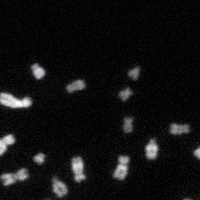chromosome: (0, 92, 32, 108), (1, 167, 29, 184), (72, 157, 86, 183), (114, 155, 129, 179), (0, 133, 15, 156), (52, 176, 68, 197), (145, 138, 158, 160), (66, 79, 85, 93), (31, 63, 44, 80), (170, 122, 190, 133), (119, 87, 132, 101), (129, 66, 141, 80), (123, 117, 133, 133), (194, 134, 200, 159), (34, 153, 46, 165), (182, 197, 195, 200), (28, 199, 55, 200)
